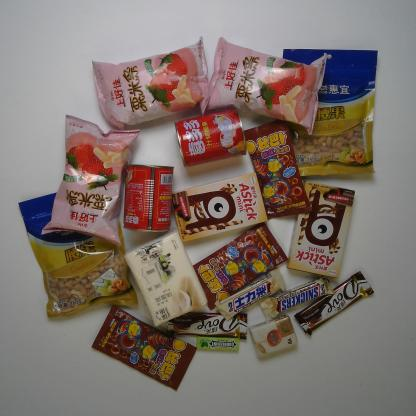Candy: (92, 304, 199, 392), (191, 221, 288, 310), (242, 118, 310, 218)
Canned Food: (174, 106, 246, 166), (121, 158, 176, 234)
Chocolate: (294, 270, 375, 336), (214, 268, 286, 320), (259, 276, 335, 324), (166, 308, 250, 340)
Dessert: (287, 181, 357, 282), (172, 172, 268, 243)
Dried Fruit: (16, 191, 138, 320), (278, 42, 382, 180)
Gum: (195, 334, 242, 350)
Puffed Food: (40, 112, 143, 248), (204, 35, 327, 135), (90, 36, 210, 127)
Tissue: (123, 231, 208, 328), (249, 312, 299, 358)
